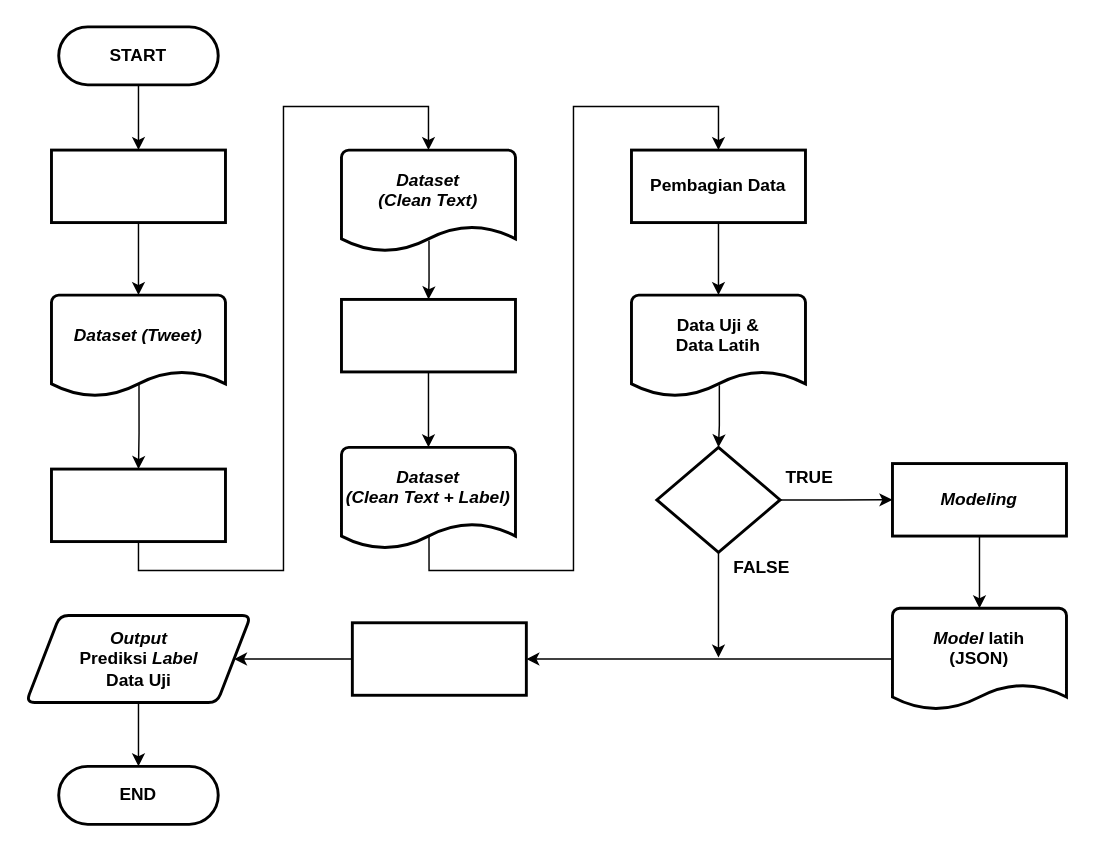
Image size: 1093x850. Some labels were removed from this diagram. Each missing label, with the centre of its shape:
Crawling: the point at 137,185
Data Latih?: the point at 718,499
Klasifikasi: the point at 438,658
Labeling: the point at 427,335
Preprocessing: the point at 137,504
